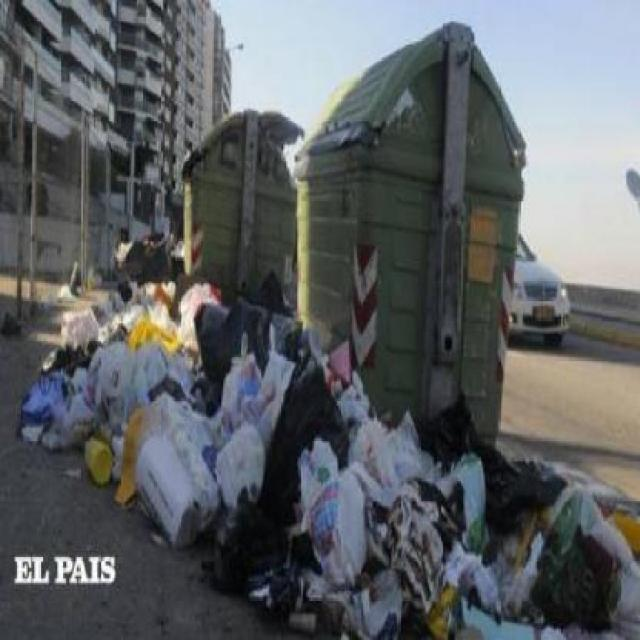garbage: (11, 272, 640, 638), (111, 215, 186, 290)
